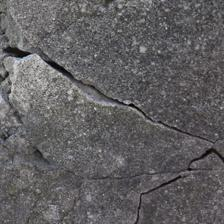Crack: (64, 83, 162, 224), (150, 47, 224, 119)
